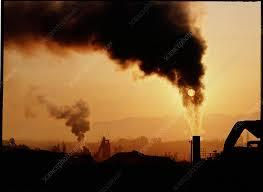smoke: (3, 1, 210, 78), (33, 92, 92, 142), (167, 79, 211, 130)
